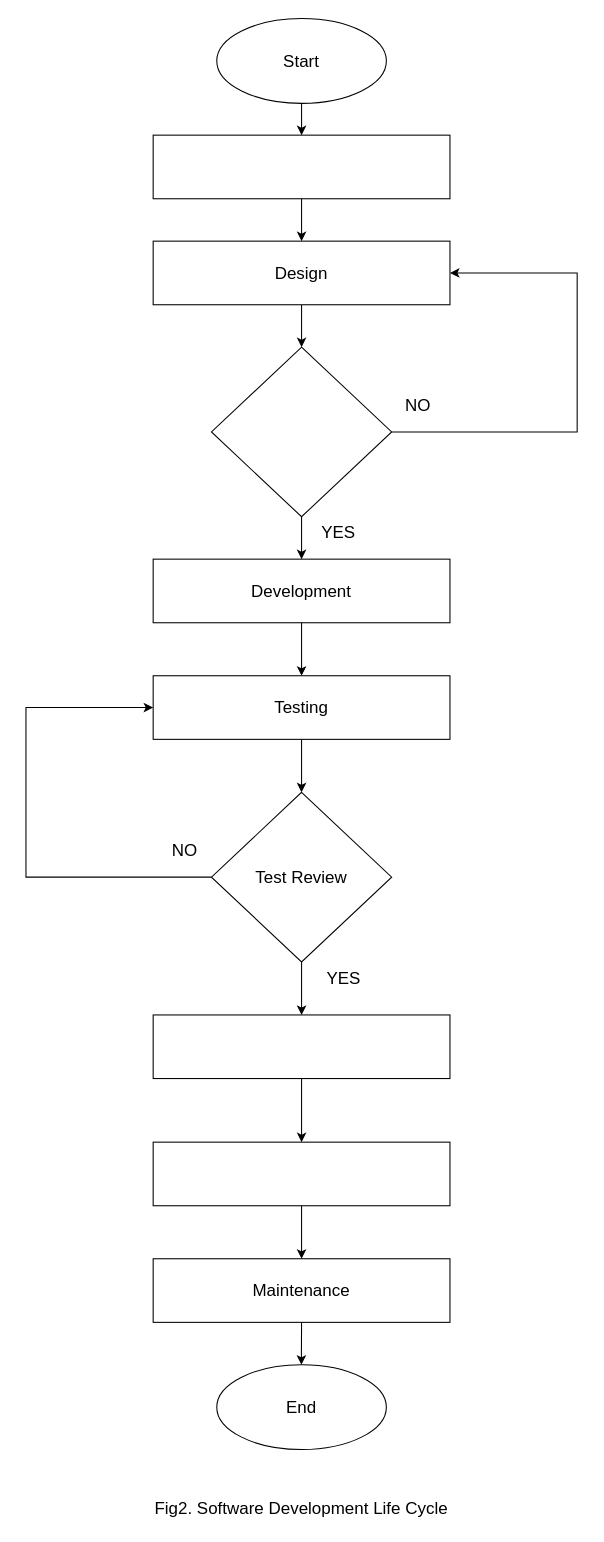
Image size: 604x1542. Some labels were removed from this diagram. The shapes that lost their labels are listed below. From the top down, each one's centre as x and y in pixels, then its label:
point 301,166: Requirement Gathering
point 301,431: Design Review
point 301,1046: User Acceptance Test
point 301,1173: Deployment
